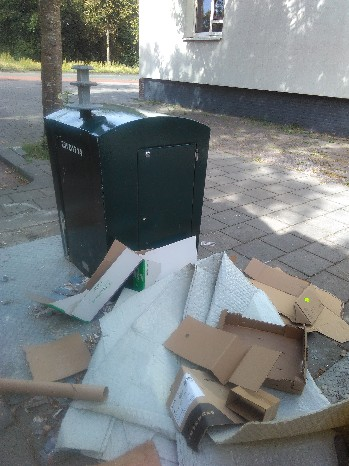Container: (48, 107, 215, 253)
Papier: (259, 271, 346, 343), (218, 313, 302, 385), (171, 374, 266, 426), (47, 266, 141, 304), (36, 338, 92, 385)
Rest: (57, 276, 265, 450)
